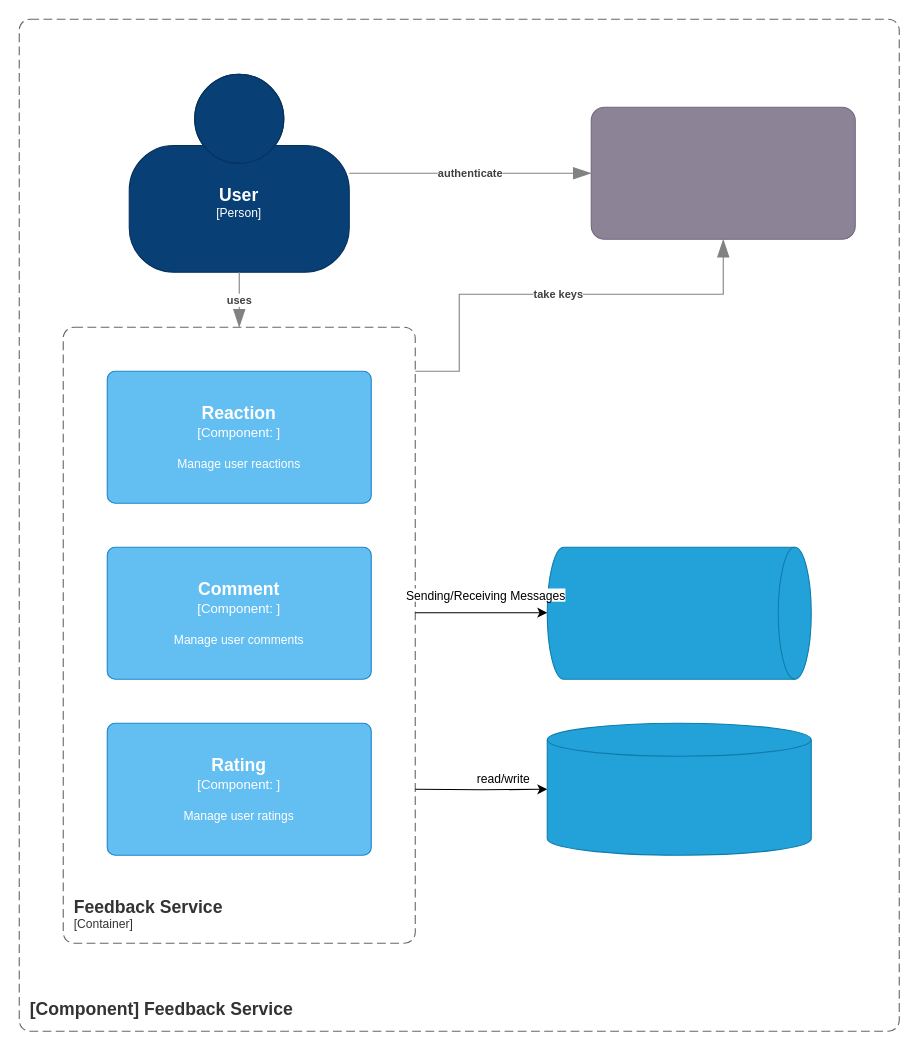
This 919x1051 diagram has some shape labels left out. The centre of each missing label's shape, as x and y in pixels:
"Broker [Container: Apache Kafka]" belongs at point (678, 612).
"Identity and AccessManagement (IAM) [Software System]" belongs at point (722, 172).
"NoSQL database [Container: MongoDB]" belongs at point (678, 788).
